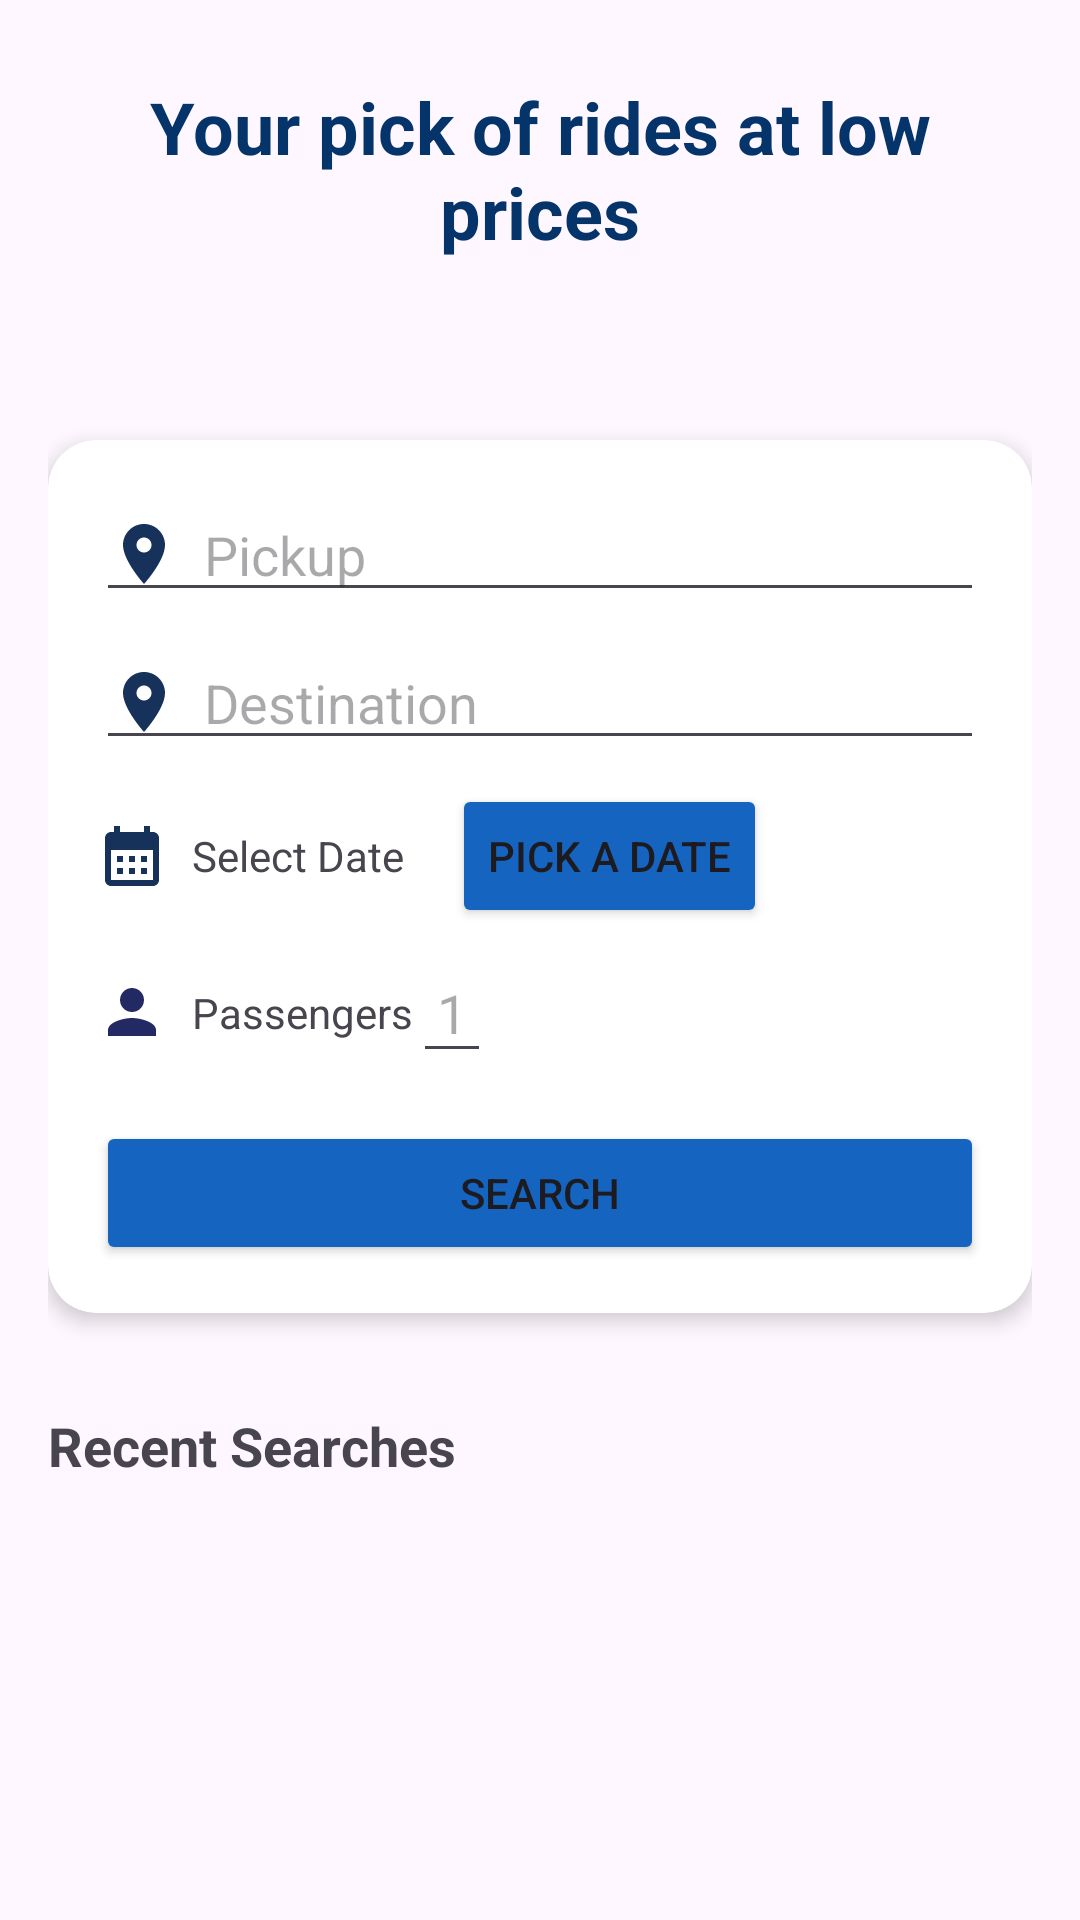

Screen size 1080×1920. Icon name, then its box in pixels as (x1, y1, x2, y2):
calendar month: (105, 826, 159, 886)
person: (108, 988, 156, 1036)
